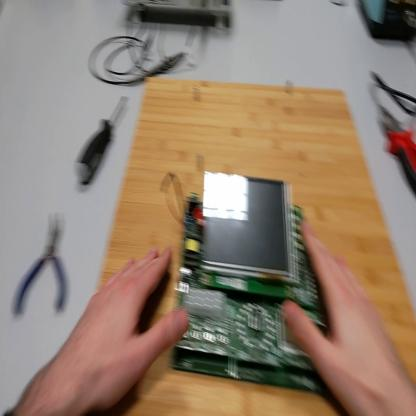hand: (283, 223, 411, 415), (52, 242, 187, 410)
low voltage board: (155, 170, 321, 389)
oscilloscope: (124, 2, 231, 26)
oscilloscope probe tip: (125, 47, 193, 91)
pliers: (14, 211, 73, 318), (376, 102, 416, 195)
screwdriver-: (74, 98, 128, 185)
welder station: (359, 2, 416, 43)
working area: (94, 79, 416, 415)
